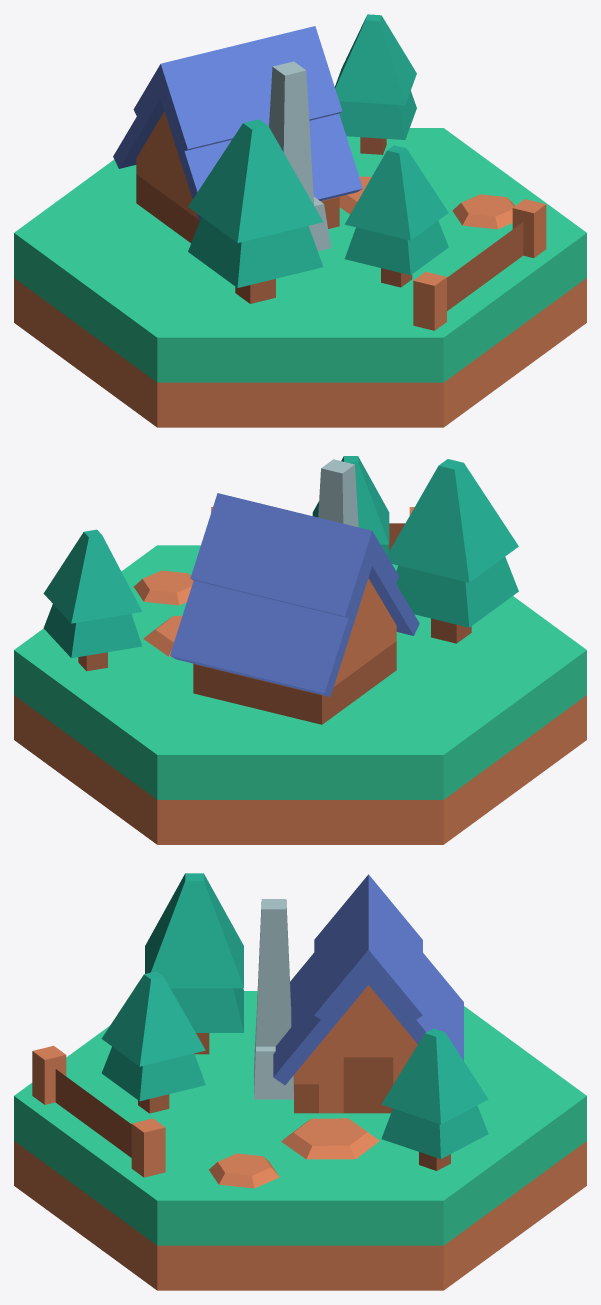
The model's file is building_house.dae.
3 views of the same model, one above another, from view 1: azimuth 30°, elevation 25°; view 2: azimuth 150°, elevation 25°; view 3: azimuth 270°, elevation 25° (orthographic).
Visible parts, largest first — view 1: building_house, tree (×3), building, fence, chimney, path; view 2: building_house, building, tree (×3), path (×2), chimney; view 3: building_house, tree (×3), building, chimney, fence, path (×2).
Boxes of the visible parts, x1,y1,x2,y2 form: building_house: (14,128,586,427); tree (×3): (188,14,448,303); building: (113,26,362,242); fence: (413,199,546,330); chimney: (269,61,331,250); path: (452,194,514,229); building_house: (14,545,586,844); building: (170,493,419,724); tree (×3): (43,456,518,671); path (×2): (134,570,193,656); chimney: (318,459,358,527); building_house: (14,991,586,1290); tree (×3): (101,873,488,1170); building: (273,874,463,1113); chimney: (254,899,293,1099); fence: (32,1045,165,1177); path (×2): (209,1118,379,1188).
Size of the model in its own units: 1 by 0.6 by 1.15.
